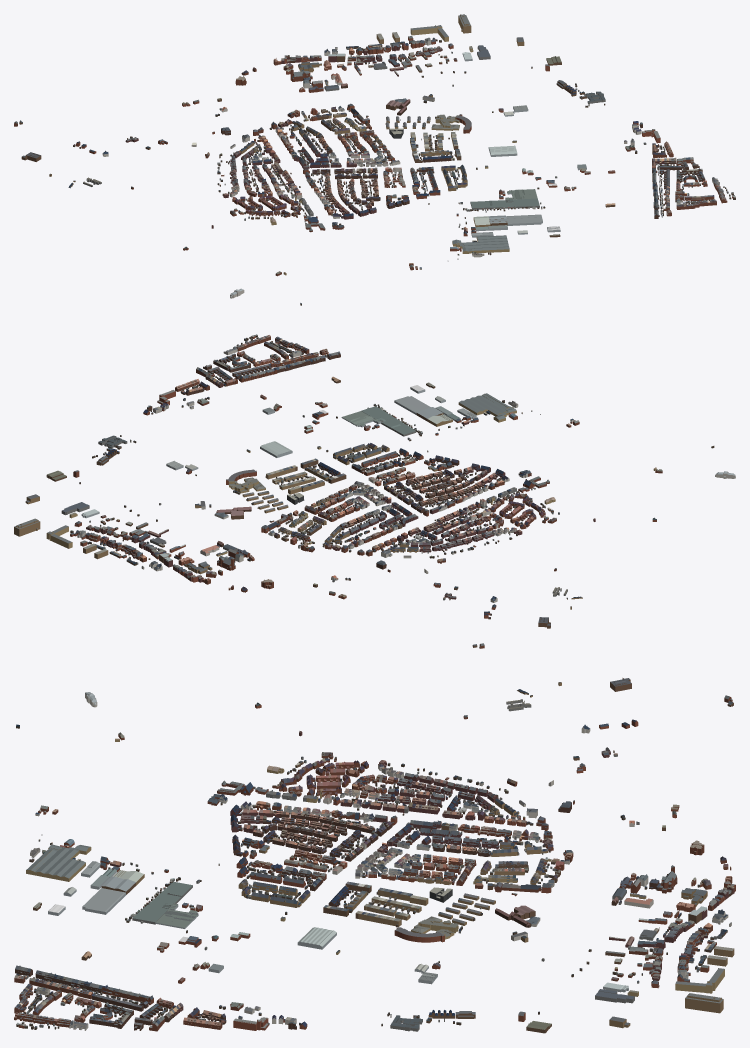
Rendered from buildings.glb.
The picture shows the model from 3 angles, top to bottom: view 1: azimuth 30°, elevation 25°; view 2: azimuth 150°, elevation 25°; view 3: azimuth 270°, elevation 25°; orthographic projection. The views are drawn at different scales.
Parts seen in each view (by area): view 1: gebouwen; view 2: gebouwen; view 3: gebouwen.
Boxes of the visible parts, box(x1,y1,x2,y2) form: gebouwen: box(14, 14, 735, 305); gebouwen: box(14, 334, 735, 648); gebouwen: box(14, 678, 735, 1033).
Bounding box in the file's own units: 1387 × 34.78 × 1212.
